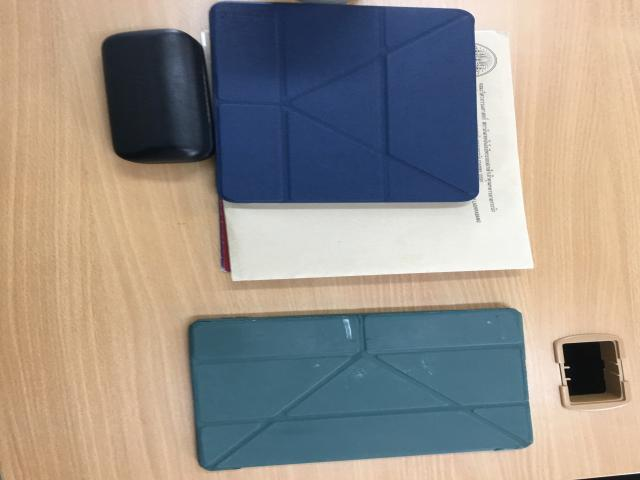Glasses: (100, 29, 218, 166)
